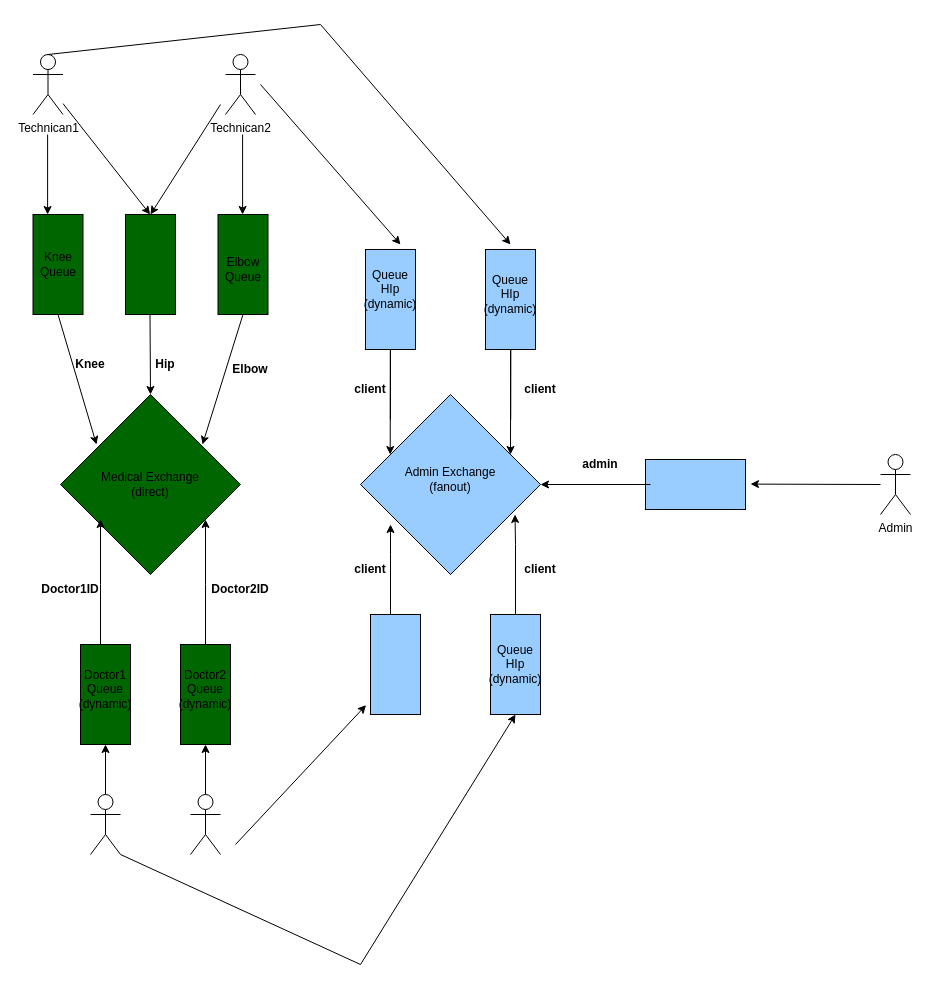
Image size: 929x990. Some labels were removed from this diagram. The shapes that lost their labels are listed below. From the top down, each one's centre as x and y in pixels, then its label:
At (150,264): "Hip Queue".
At (695,484): "Admin Queue".
At (395,664): "Queue Doctor1 (dynamic)".
At (105,824): "Doctor 1".
At (205,824): "Doctor 2".
